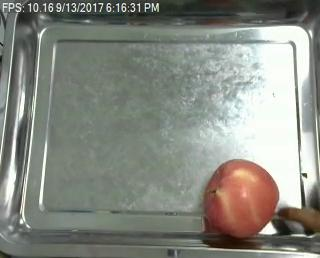apple: (200, 158, 279, 238)
